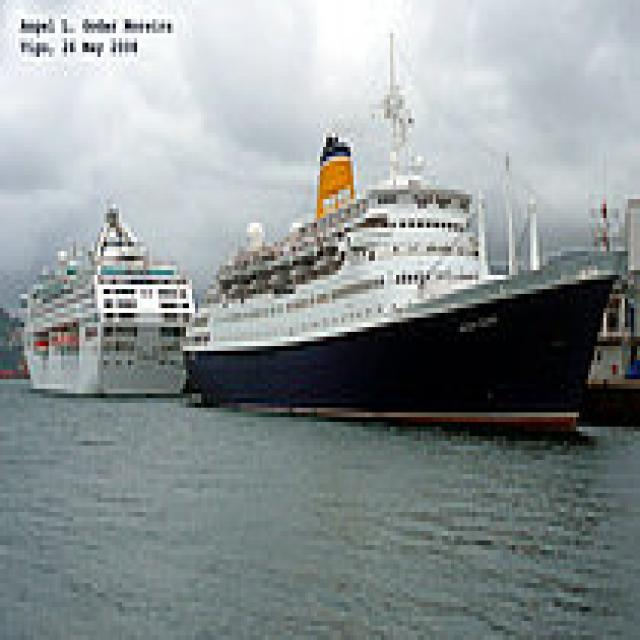Ship: (178, 153, 635, 457), (13, 195, 208, 423)
